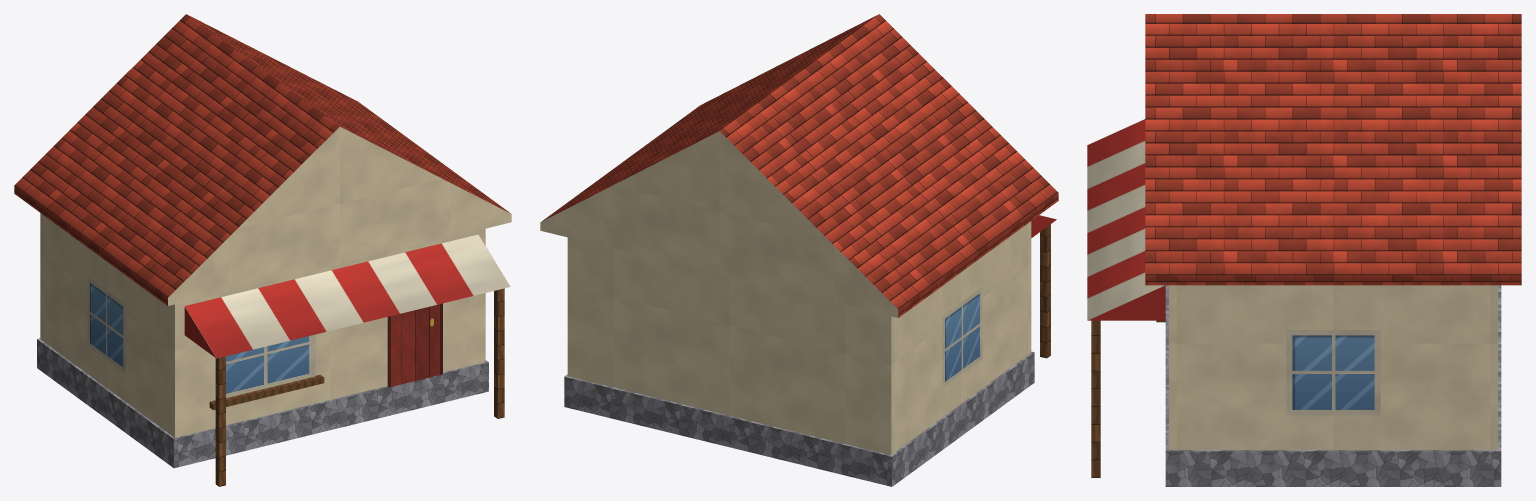
The model's file is House_Shop1.glb.
The picture shows the model from 3 angles, left to right: view 1: azimuth 30°, elevation 25°; view 2: azimuth 150°, elevation 25°; view 3: azimuth 270°, elevation 25°; orthographic projection. The views are drawn at different scales.
Parts seen in each view (by area): view 1: House_Shop1; view 2: House_Shop1; view 3: House_Shop1.
Boxes of the visible parts, x1,y1,x2,y2 form: House_Shop1: [14, 14, 511, 486]; House_Shop1: [540, 14, 1058, 486]; House_Shop1: [1087, 14, 1521, 486].
Size of the model in its own units: 6.2 by 5.33 by 5.54.
Materials: 8 (8 with a texture image).
